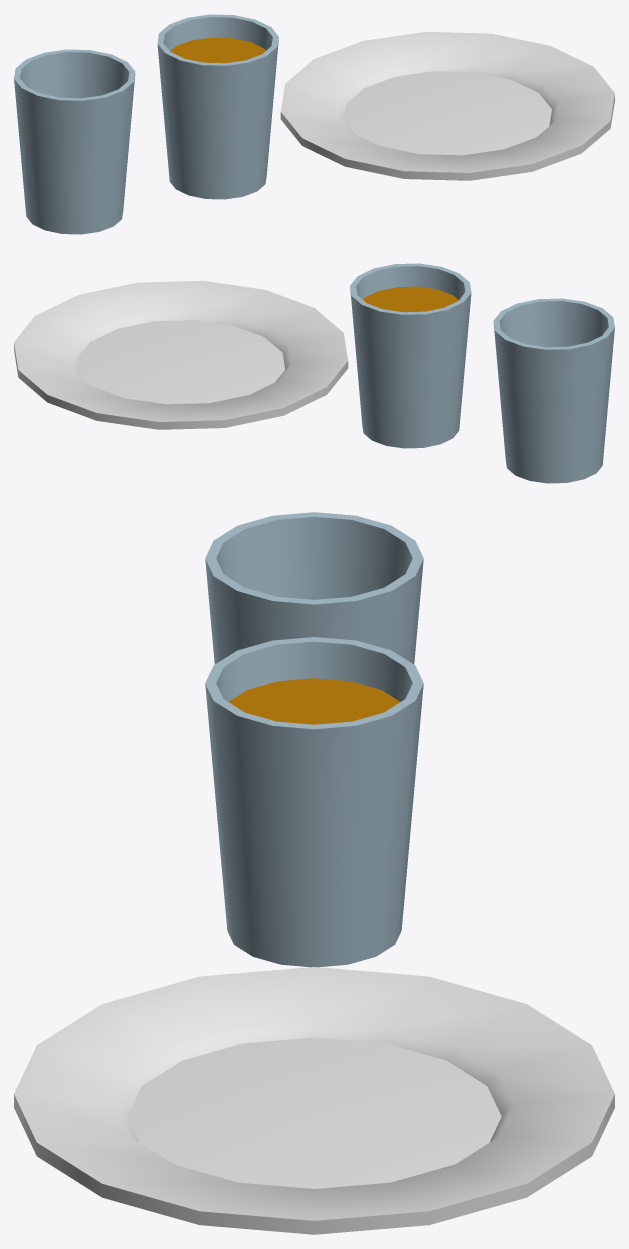
The model's file is PlateCups.fbx.
3 views of the same model, one above another, from view 1: azimuth 30°, elevation 25°; view 2: azimuth 150°, elevation 25°; view 3: azimuth 270°, elevation 25° (orthographic). The views are drawn at different scales.
Parts seen in each view (by area): view 1: Plate, Cup.2, Cup.3; view 2: Plate, Cup.2, Cup.3; view 3: Plate, Cup.3, Cup.2.
Boxes of the visible parts, x1,y1,x2,y2 form: Plate: (280,31,614,180); Cup.2: (14,49,135,234); Cup.3: (157,14,278,199); Plate: (14,280,348,429); Cup.2: (493,298,614,483); Cup.3: (350,263,471,448); Plate: (14,967,614,1234); Cup.3: (205,637,423,967); Cup.2: (205,512,423,664).
Bounding box in the file's own units: 0.8624 × 0.2 × 0.44.
